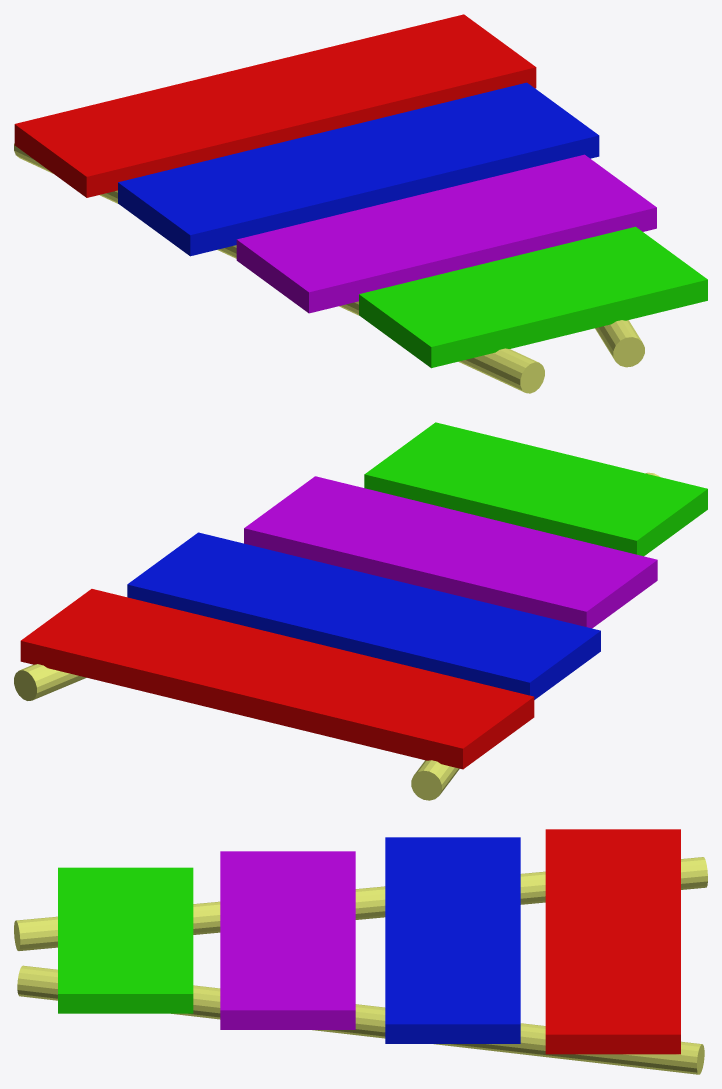
Rendered from xylophone.fbx.
3 renders of one model, top to bottom at view 1: azimuth 30°, elevation 25°; view 2: azimuth 150°, elevation 25°; view 3: azimuth 270°, elevation 25°, orthographic. The views are drawn at different scales.
Parts seen in each view (by area): view 1: Cube.001; view 2: Cube.001; view 3: Cube.001.
Boxes of the visible parts, bbox=[...] form: Cube.001: bbox=[14, 14, 707, 393]; Cube.001: bbox=[14, 422, 707, 800]; Cube.001: bbox=[14, 829, 707, 1074].
Bounding box in the file's own units: 440 × 45.83 × 629.
